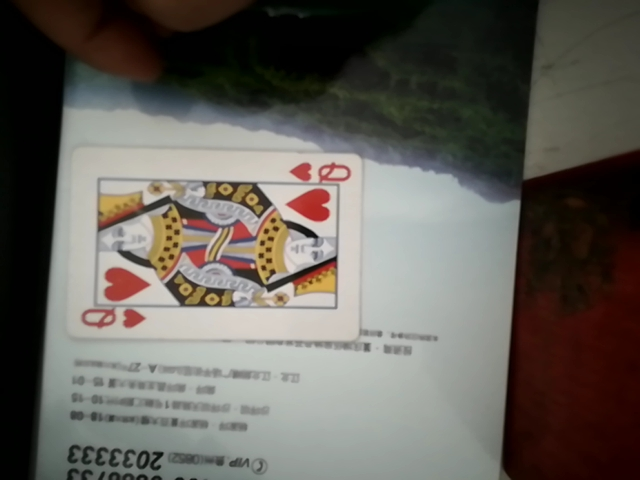hx q: (58, 149, 372, 347)
